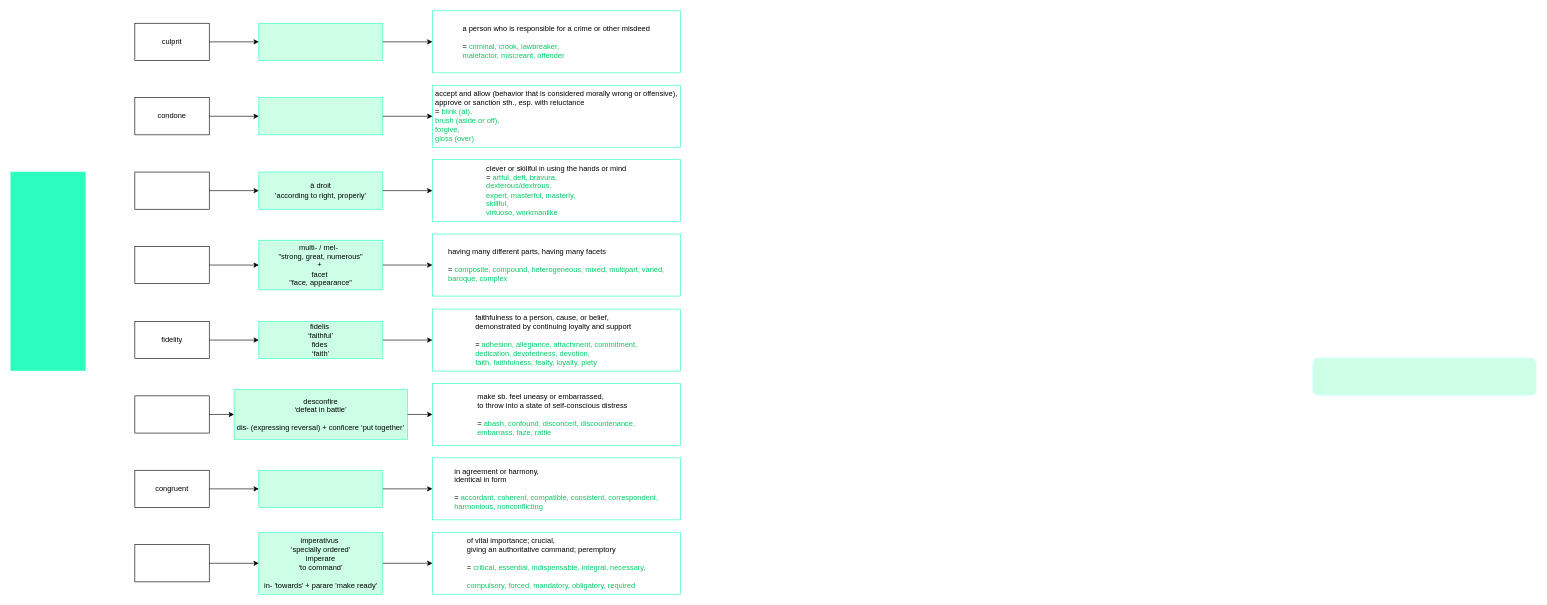
Some shapes in this 1547 by 605 pixel diagram are drawn without their labels. Here are the shapes that lost their labels. From the top down, the box of each, then its label:
(258, 23, 383, 60): culpa 'fault, blame'
(258, 97, 383, 135): condonare 'refrain from punishing' con- 'altogether' + donare 'give'
(134, 171, 209, 209): adroit
(10, 171, 85, 370): p.21 culprit condone adroit multifaceted fidelity discomfit congruent imperative
(134, 246, 209, 284): multifaceted
(1312, 357, 1536, 395): log transformation
(134, 395, 209, 433): discomfit
(258, 470, 383, 507): congruere 'agreeing, meeting together' con- 'together' + ruere 'fall or rush'
(134, 544, 209, 582): imperative
